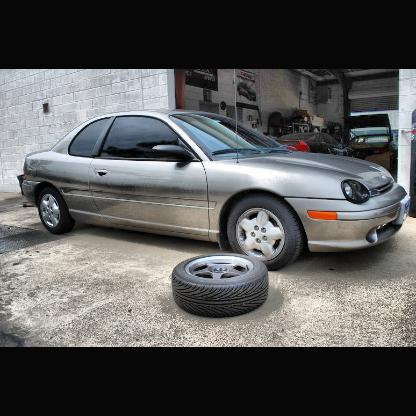Plymouth Neon Coupe 1999: (18, 107, 411, 270)
